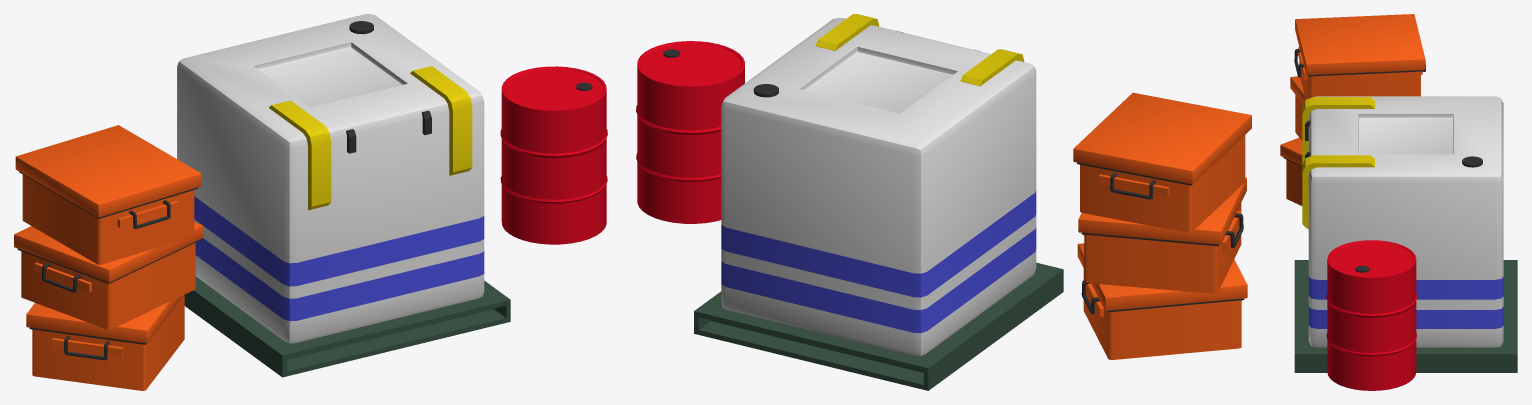
File: supply.fbx
3 renders of one model, left to right at view 1: azimuth 30°, elevation 25°; view 2: azimuth 150°, elevation 25°; view 3: azimuth 270°, elevation 25°, orthographic. The views are drawn at different scales.
Visible parts, largest first — view 1: Cube.169, Cube.168, Cylinder.075; view 2: Cube.169, Cube.168, Cylinder.075; view 3: Cube.169, Cylinder.075, Cube.168.
Boxes of the visible parts, bbox=[...] form: Cube.169: bbox=[177, 14, 510, 377]; Cube.168: bbox=[14, 125, 202, 390]; Cylinder.075: bbox=[500, 66, 607, 244]; Cube.169: bbox=[694, 14, 1063, 390]; Cube.168: bbox=[1073, 92, 1251, 359]; Cylinder.075: bbox=[636, 41, 744, 223]; Cube.169: bbox=[1294, 96, 1517, 372]; Cylinder.075: bbox=[1326, 240, 1417, 390]; Cube.168: bbox=[1280, 14, 1425, 205].
Bounding box in the file's own units: 410 × 156 × 171.
